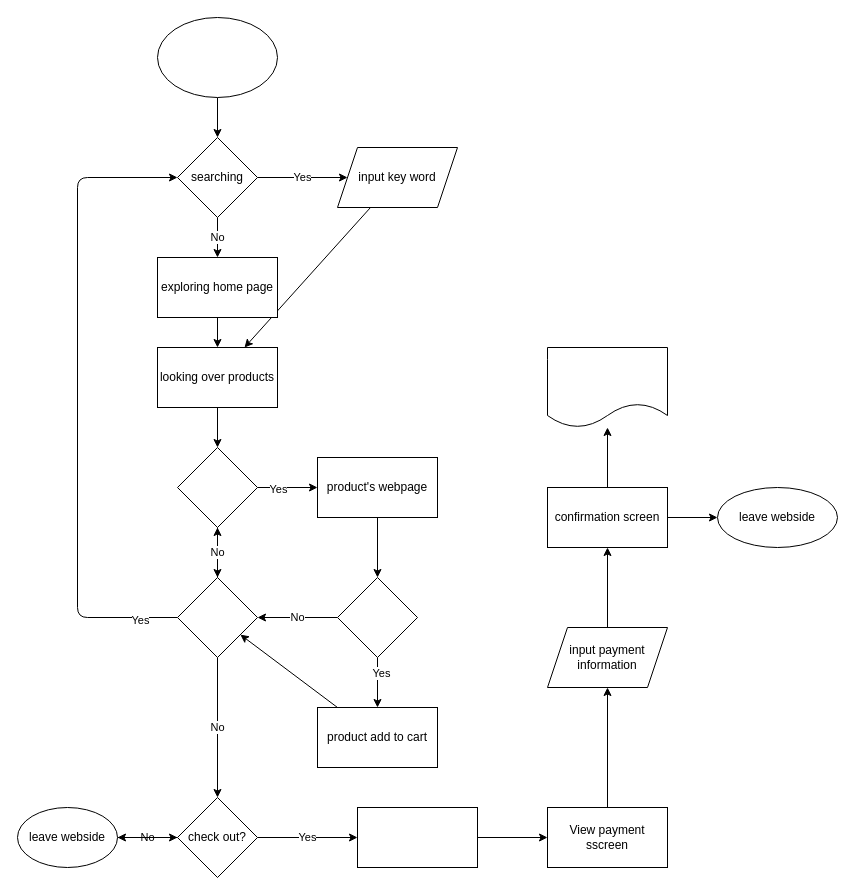
Image size: 855x895. Some labels were removed from this diagram. Here are the shapes that lost their labels. From the top down, the centre of each, then its label:
point 217,57: entering website
point 607,387: receive an email
point 217,487: view specific product
point 217,617: continue shopping
point 377,617: add to cart confirm
point 417,837: View cart screen
